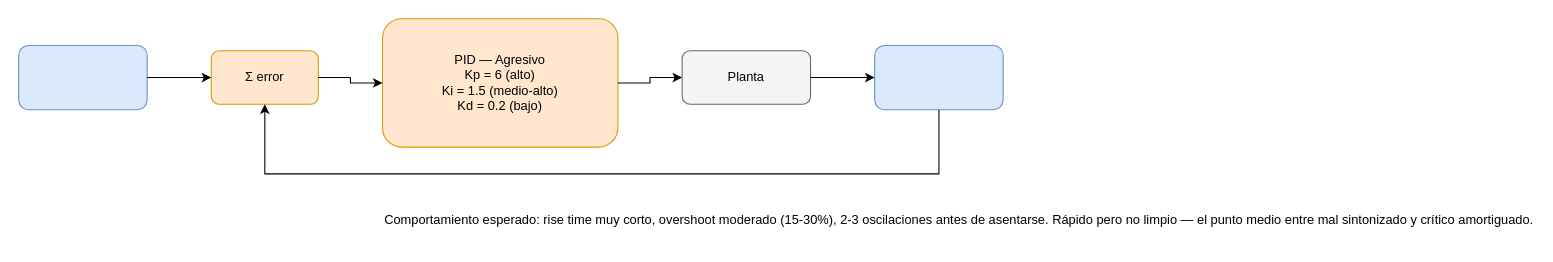
This 1553x262 diagram has some shape labels left out. The box of each missing label's shape, as (x1, y1, x2, y2) in pixels:
Salida y(t): (874, 44, 1003, 110)
Setpoint: (18, 44, 147, 110)
